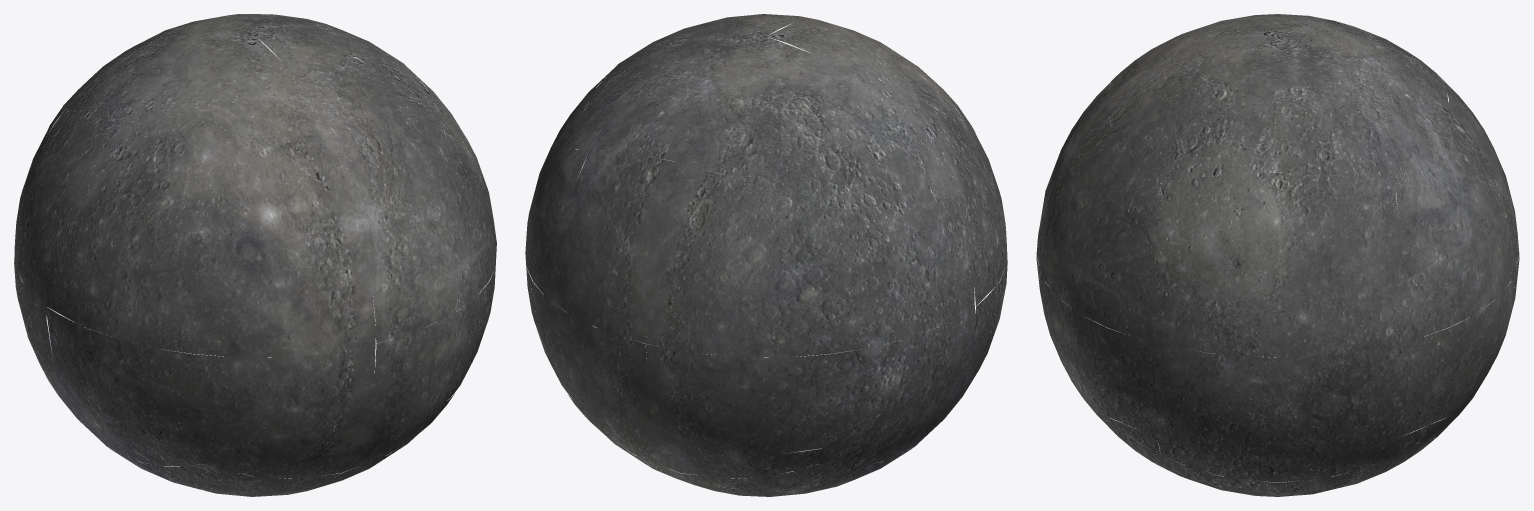
File: Mercury_1_4878.glb
3 views of the same model, side by side, from view 1: azimuth 30°, elevation 25°; view 2: azimuth 150°, elevation 25°; view 3: azimuth 270°, elevation 25° (orthographic).
Parts seen in each view (by area): view 1: Cube.008; view 2: Cube.008; view 3: Cube.008.
Boxes of the visible parts, box(x1,y1,x2,y2) form: Cube.008: box(14, 14, 496, 496); Cube.008: box(525, 14, 1007, 496); Cube.008: box(1036, 14, 1519, 496).
Bounding box in the file's own units: 1004 × 1003 × 1004.
1 material, 1 textured.
